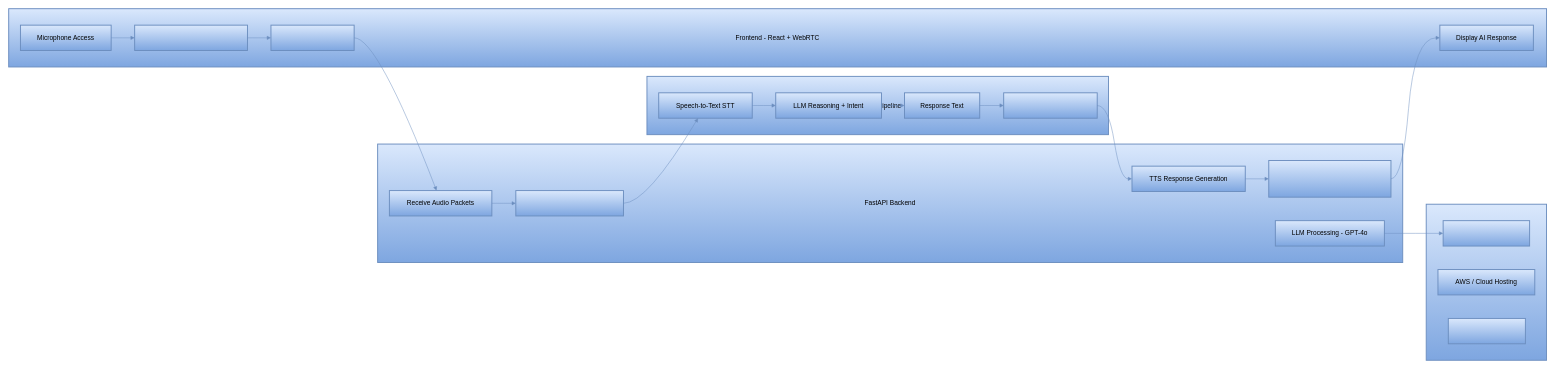
Image size: 1555x368. Some labels were removed from this diagram. The shapes that lost their labels are listed below. From the top down, each one's centre as x and y in pixels, then its label:
At point (191, 37): "WebRTC Peer Connection".
At point (312, 37): "Audio Streaming".
At point (1050, 105): "Text-to-Speech TTS".
At point (1329, 178): "Send Audio Back via WebRTC".
At point (569, 203): "Speech-to-Text Request".
At point (1486, 233): "Docker Container".
At point (1487, 331): "CI/CD Pipeline".
